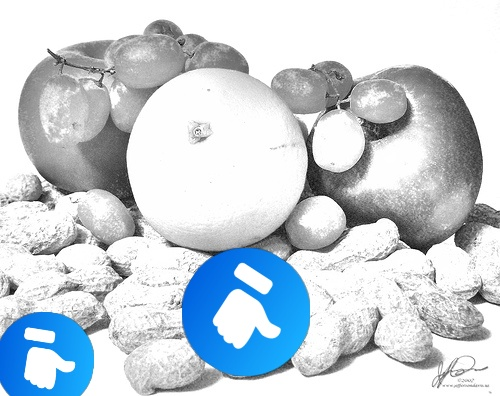like: (182, 248, 310, 376), (0, 312, 94, 396)
